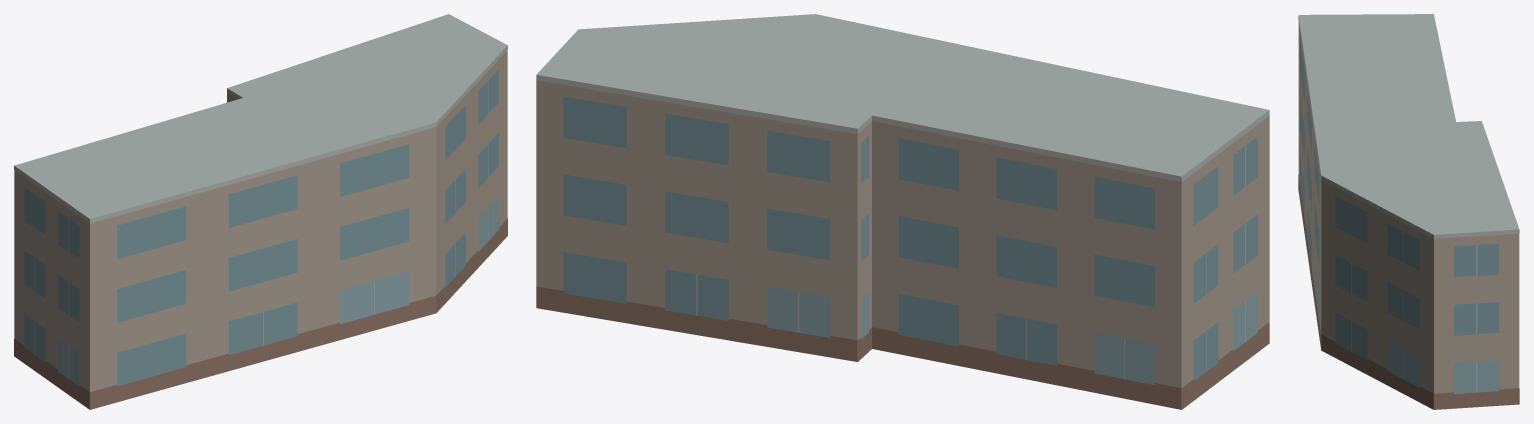
Rendered from survey-upis-32664050.glb.
3 renders of one model, left to right at view 1: azimuth 30°, elevation 25°; view 2: azimuth 150°, elevation 25°; view 3: azimuth 270°, elevation 25°, orthographic. The views are drawn at different scales.
Parts seen in each view (by area): view 1: survey-upis-32664050.tmp; view 2: survey-upis-32664050.tmp; view 3: survey-upis-32664050.tmp.
Part boxes in pixels (x1,y1,x2,y2): survey-upis-32664050.tmp: [14, 14, 507, 409]; survey-upis-32664050.tmp: [536, 14, 1269, 409]; survey-upis-32664050.tmp: [1298, 14, 1519, 409].
Bounding box in the file's own units: 27.62 × 10.2 × 11.68.
